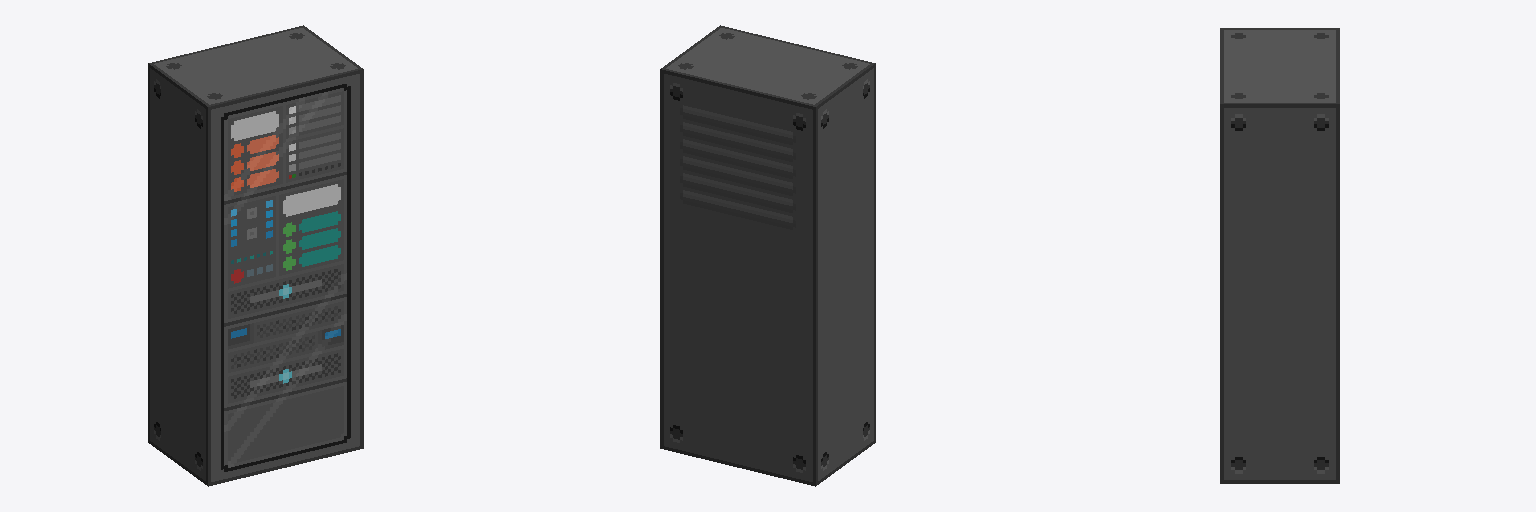
3 views of the same model, side by side, from view 1: azimuth 30°, elevation 25°; view 2: azimuth 150°, elevation 25°; view 3: azimuth 270°, elevation 25° (orthographic).
Visible parts, largest first — view 1: cube; view 2: cube; view 3: cube.
Part boxes in pixels (bbox=[...]): cube: bbox=[148, 25, 363, 486]; cube: bbox=[660, 25, 875, 486]; cube: bbox=[1220, 28, 1339, 483].
Size of the model in its own units: 0.1875 by 0.4375 by 0.125.
Materials: 1 (1 with a texture image).